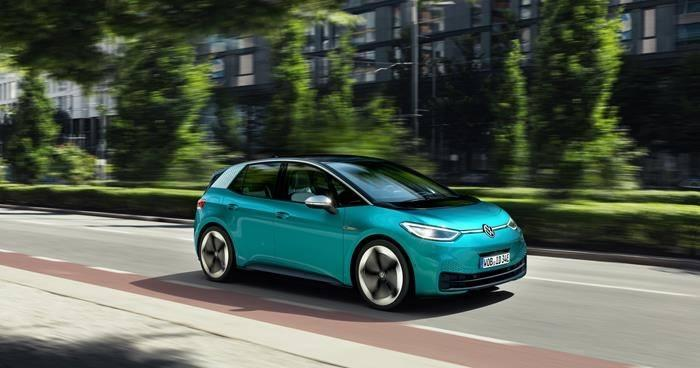windshield: (318, 154, 470, 211)
